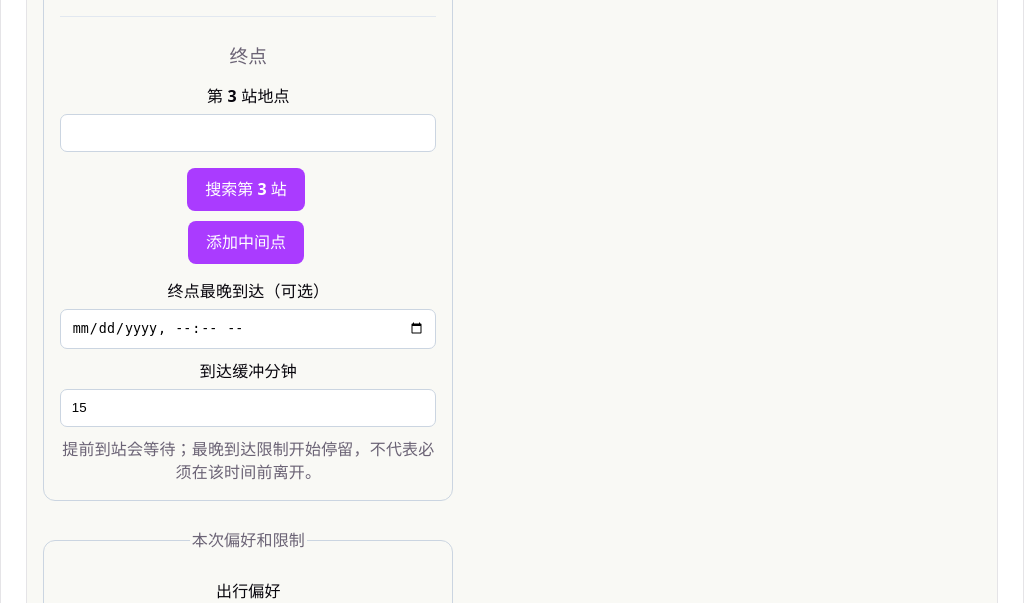
Scenario: 最多三个中间点，允许删除但保留至少一个
The image size is (1024, 603).
(page scrolled)
Click the button "添加中间点" at [246, 242], box [188,221,304,264]
(page scrolled)
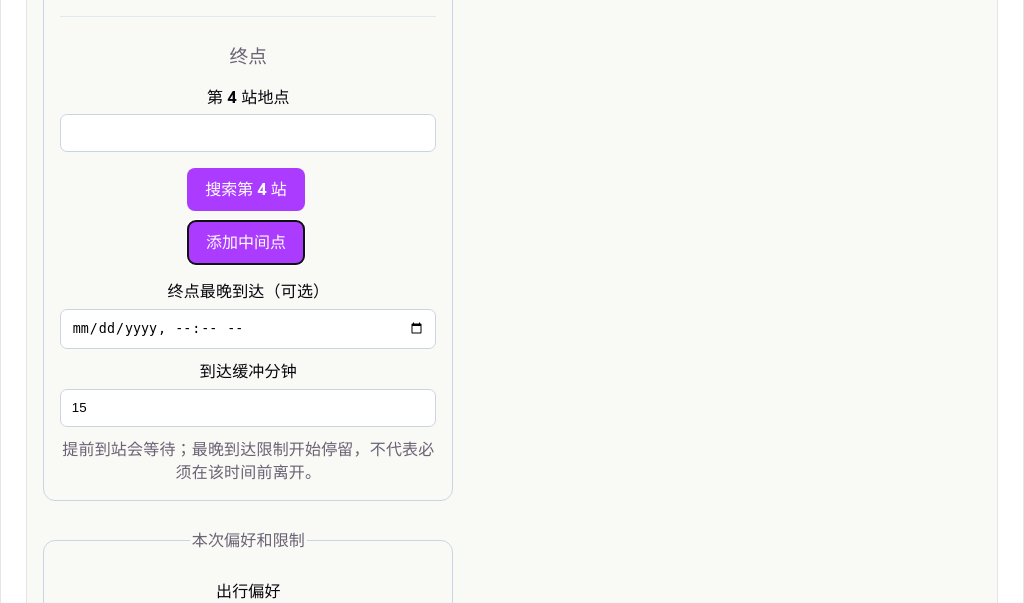
Click the button "添加中间点" at [246, 242], box [188,221,304,264]
(page scrolled)
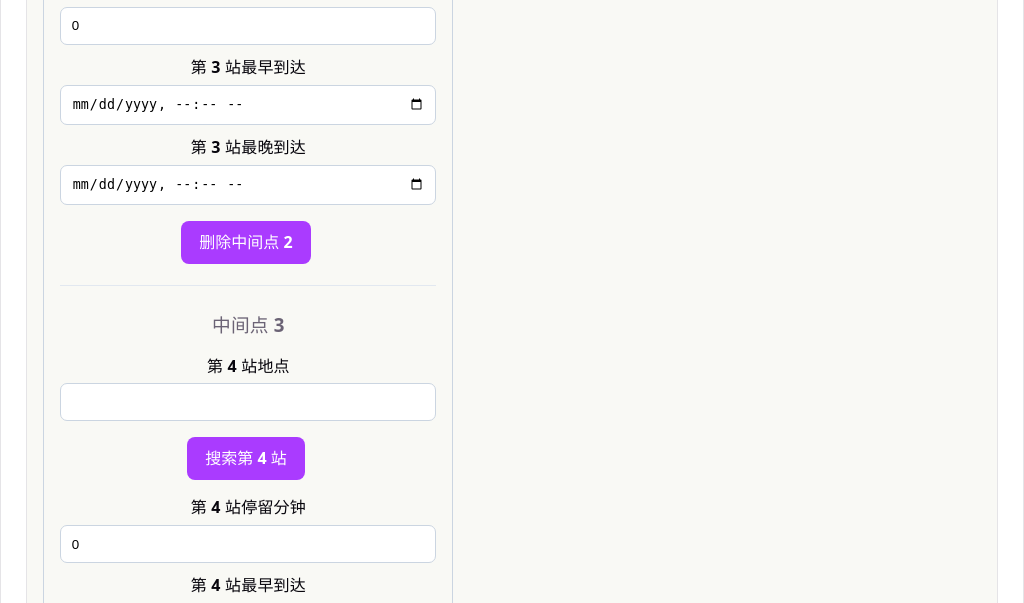
Click the button "删除中间点 2" at [246, 242], box [181,221,311,264]
(page scrolled)
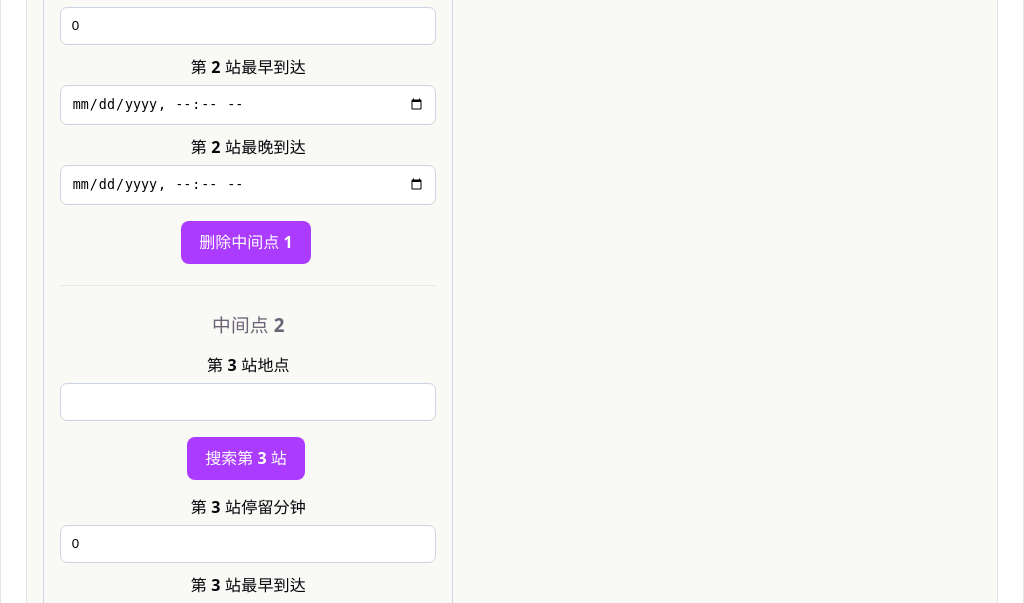
Click the button "删除中间点 1" at [246, 242], box [181,221,311,264]
(page scrolled)
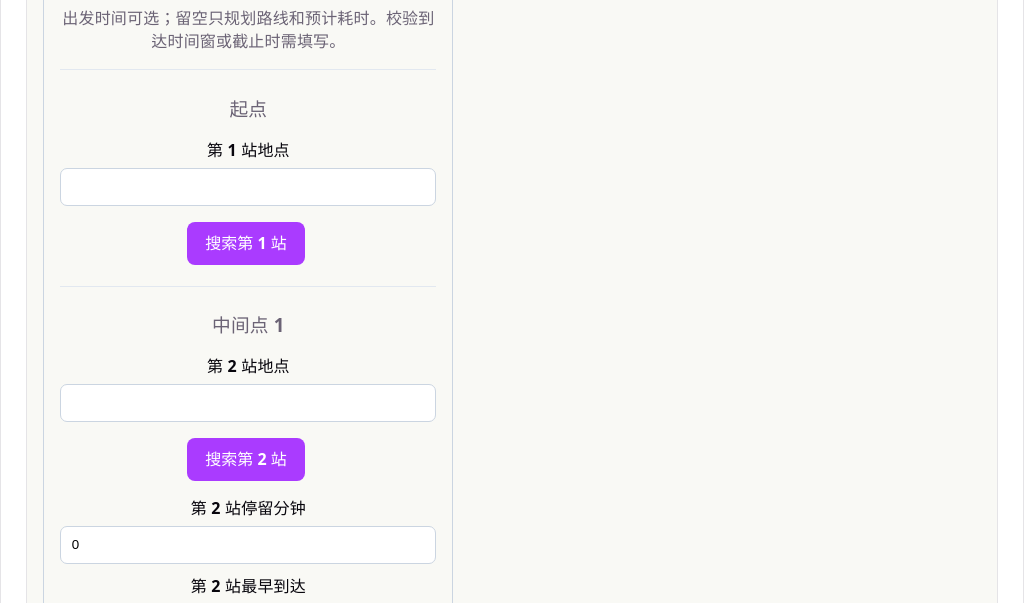
Expected: the button "删除中间点" is gone
Expected: the number of fields labelled "第 1 站地点" is 3
